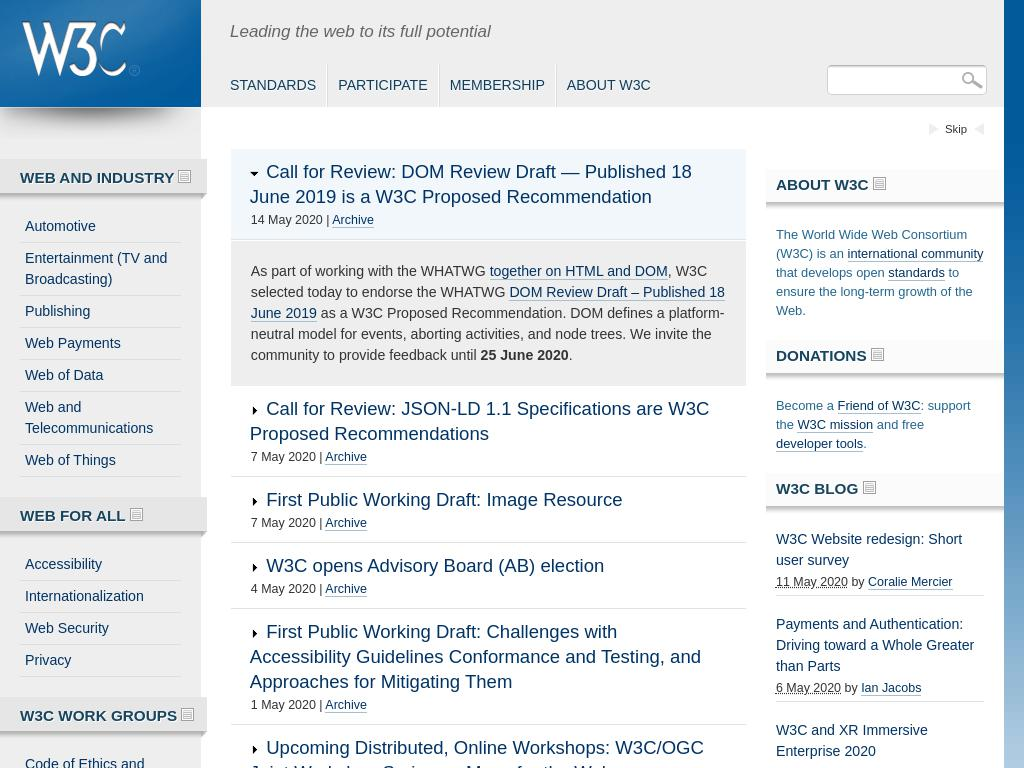button: (249, 621, 701, 695), (249, 398, 710, 447), (249, 161, 692, 210), (250, 284, 725, 323), (249, 737, 704, 768), (249, 489, 623, 513), (249, 555, 605, 579), (20, 243, 181, 295), (20, 392, 181, 444), (20, 211, 181, 242), (20, 296, 181, 327), (20, 328, 181, 359), (20, 360, 181, 391), (20, 445, 181, 476), (20, 549, 181, 580), (20, 581, 181, 612), (20, 613, 181, 644), (20, 645, 181, 676), (438, 65, 556, 107), (327, 65, 439, 107), (219, 65, 328, 107), (555, 65, 661, 107), (489, 263, 668, 281), (20, 749, 181, 768), (847, 246, 983, 263), (775, 436, 863, 453), (837, 398, 921, 415), (868, 575, 954, 591), (797, 417, 874, 434), (888, 265, 946, 282), (861, 681, 922, 697), (332, 213, 375, 229), (325, 450, 367, 466), (325, 516, 367, 532), (325, 582, 367, 598), (325, 698, 367, 714), (961, 72, 983, 89)
field: (830, 70, 941, 92)
heading: (19, 159, 1024, 192), (249, 621, 702, 693), (0, 0, 201, 109), (249, 398, 710, 445), (249, 161, 693, 208), (250, 169, 766, 203), (249, 737, 705, 768), (266, 489, 624, 511), (266, 555, 606, 577), (20, 707, 181, 724), (20, 169, 178, 186), (20, 507, 130, 524), (775, 176, 873, 194), (775, 347, 871, 365), (775, 480, 863, 498), (20, 0, 63, 27), (872, 177, 886, 191), (870, 348, 884, 362), (862, 481, 876, 495), (178, 170, 192, 183), (129, 508, 143, 521), (181, 708, 195, 721), (249, 168, 259, 178), (249, 405, 259, 415), (249, 496, 259, 506), (249, 562, 259, 572), (249, 628, 259, 638), (249, 744, 259, 754)
image: (0, 107, 201, 139), (961, 72, 983, 89)
link: (775, 616, 974, 675), (775, 531, 962, 569), (775, 722, 928, 760), (944, 123, 968, 136)
text: (219, 0, 1004, 64), (250, 305, 725, 364), (250, 263, 707, 301), (775, 265, 973, 319), (775, 398, 970, 433), (775, 227, 967, 262), (250, 263, 490, 280), (775, 265, 888, 281), (480, 347, 569, 364), (250, 213, 326, 228), (775, 575, 848, 590), (250, 450, 320, 465), (250, 516, 320, 531), (250, 582, 320, 597), (250, 698, 320, 713), (775, 398, 838, 414), (775, 681, 841, 696), (873, 417, 925, 433), (847, 575, 868, 590), (841, 681, 862, 696), (775, 766, 841, 768), (861, 766, 925, 768), (326, 213, 333, 228), (319, 450, 326, 465), (319, 516, 326, 531), (319, 582, 326, 597), (319, 698, 326, 713), (568, 347, 573, 364), (863, 436, 868, 452), (841, 766, 862, 768)
